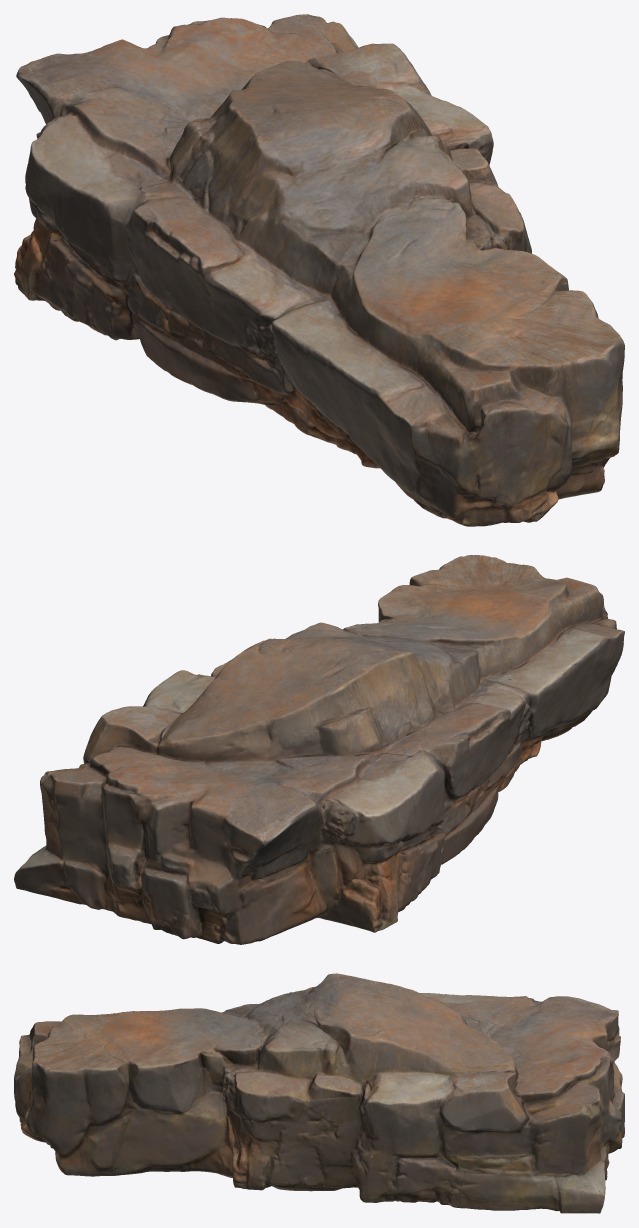
File: Stone_Plateau.glb
The picture shows the model from 3 angles, top to bottom: view 1: azimuth 30°, elevation 25°; view 2: azimuth 150°, elevation 25°; view 3: azimuth 270°, elevation 25°; orthographic projection. The views are drawn at different scales.
Size of the model in its own units: 0.962 by 0.5383 by 1.9.
1 material, 1 textured.
